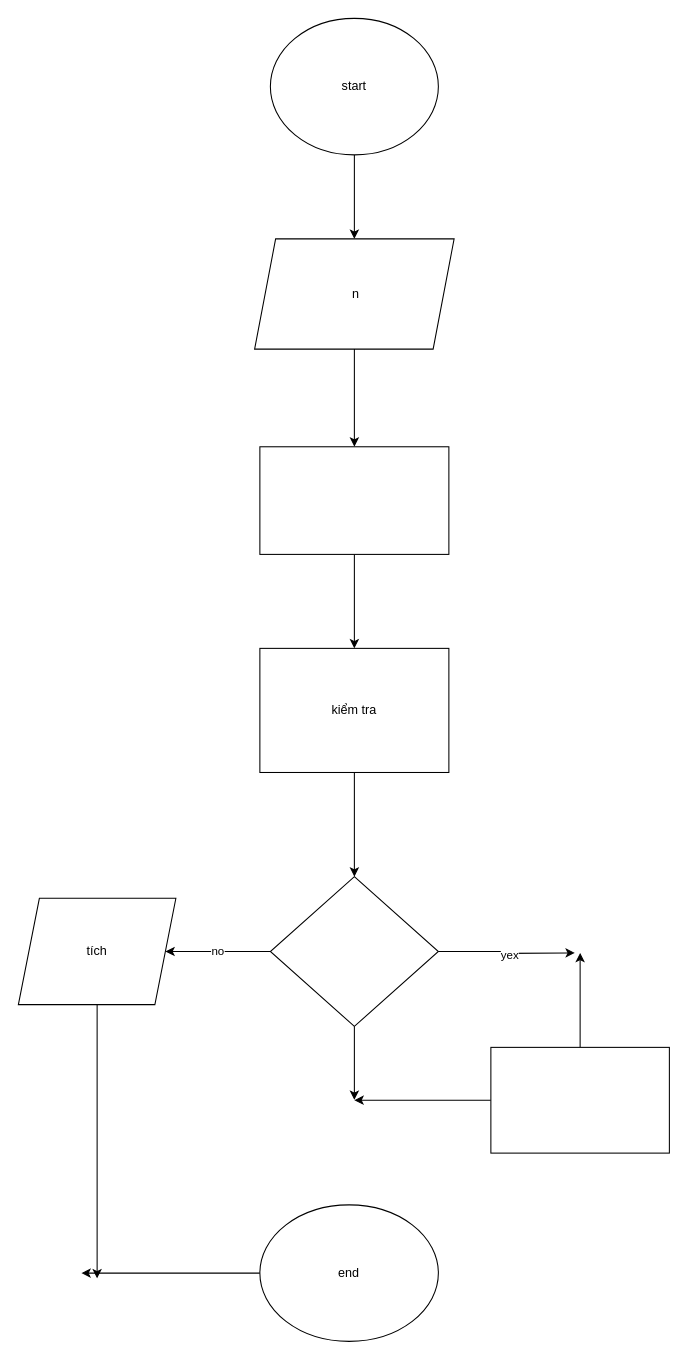
Some shapes in this 688 by 1360 pixel diagram are drawn without their labels. Each missing label, with the box of its shape:
i<=n: (269, 876, 438, 1026)
tích=1 i=1: (259, 446, 449, 554)
tích=tích*i i=i+1: (490, 1046, 669, 1153)
